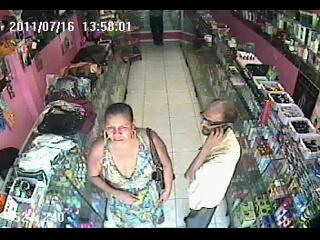Normal: (87, 102, 176, 227), (183, 98, 242, 228), (149, 10, 164, 46)
